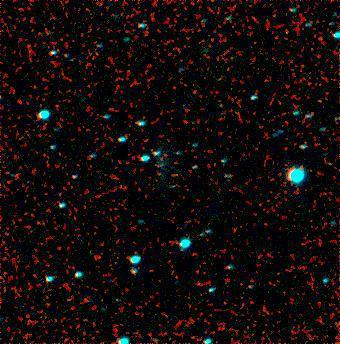star: (159, 160, 189, 190)
